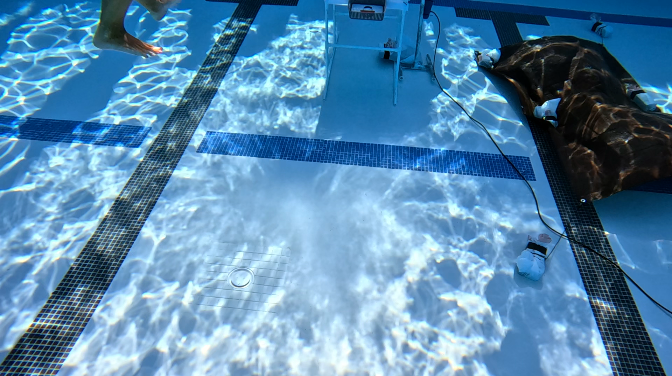sandbag: (464, 35, 671, 200), (517, 232, 549, 279), (589, 16, 612, 38)
